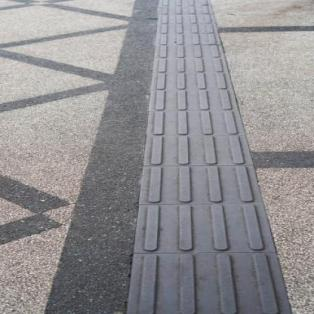Podoctatil: (130, 0, 290, 311)
